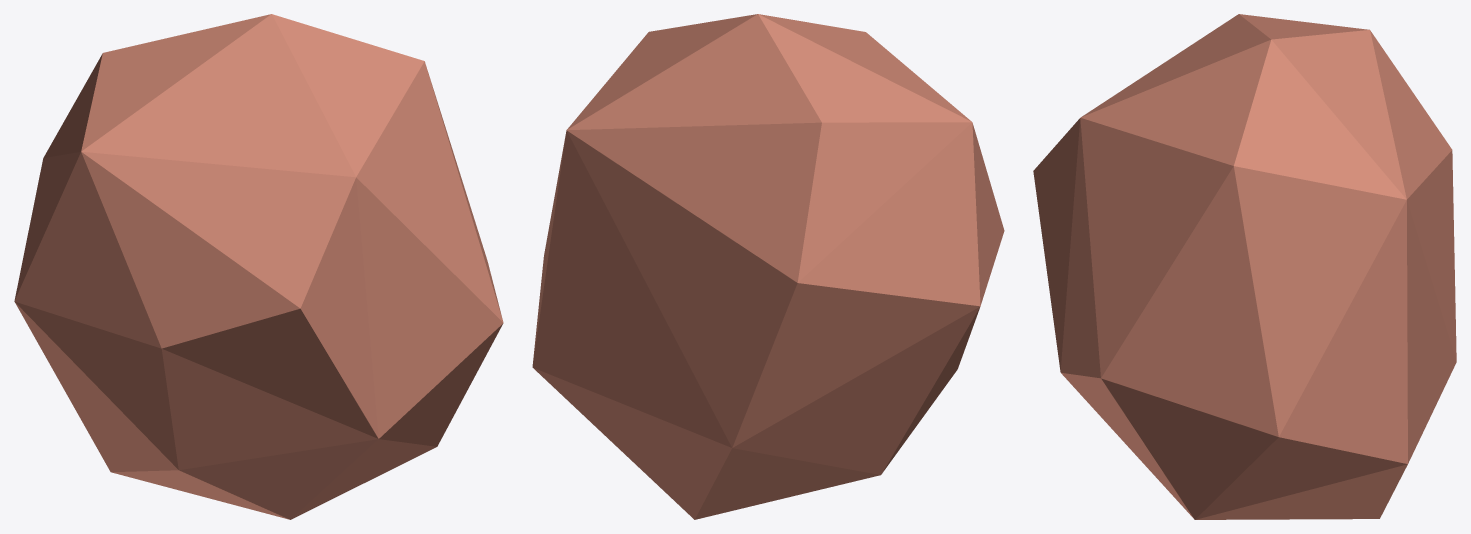
File: stone_004.fbx
3 renders of one model, left to right at view 1: azimuth 30°, elevation 25°; view 2: azimuth 150°, elevation 25°; view 3: azimuth 270°, elevation 25°, orthographic. The views are drawn at different scales.
Parts seen in each view (by area): view 1: stone_004; view 2: stone_004; view 3: stone_004.
Boxes of the visible parts, bbox=[...] form: stone_004: bbox=[14, 14, 503, 519]; stone_004: bbox=[532, 14, 1004, 519]; stone_004: bbox=[1033, 14, 1456, 519].
Bounding box in the file's own units: 123 × 100 × 124.
